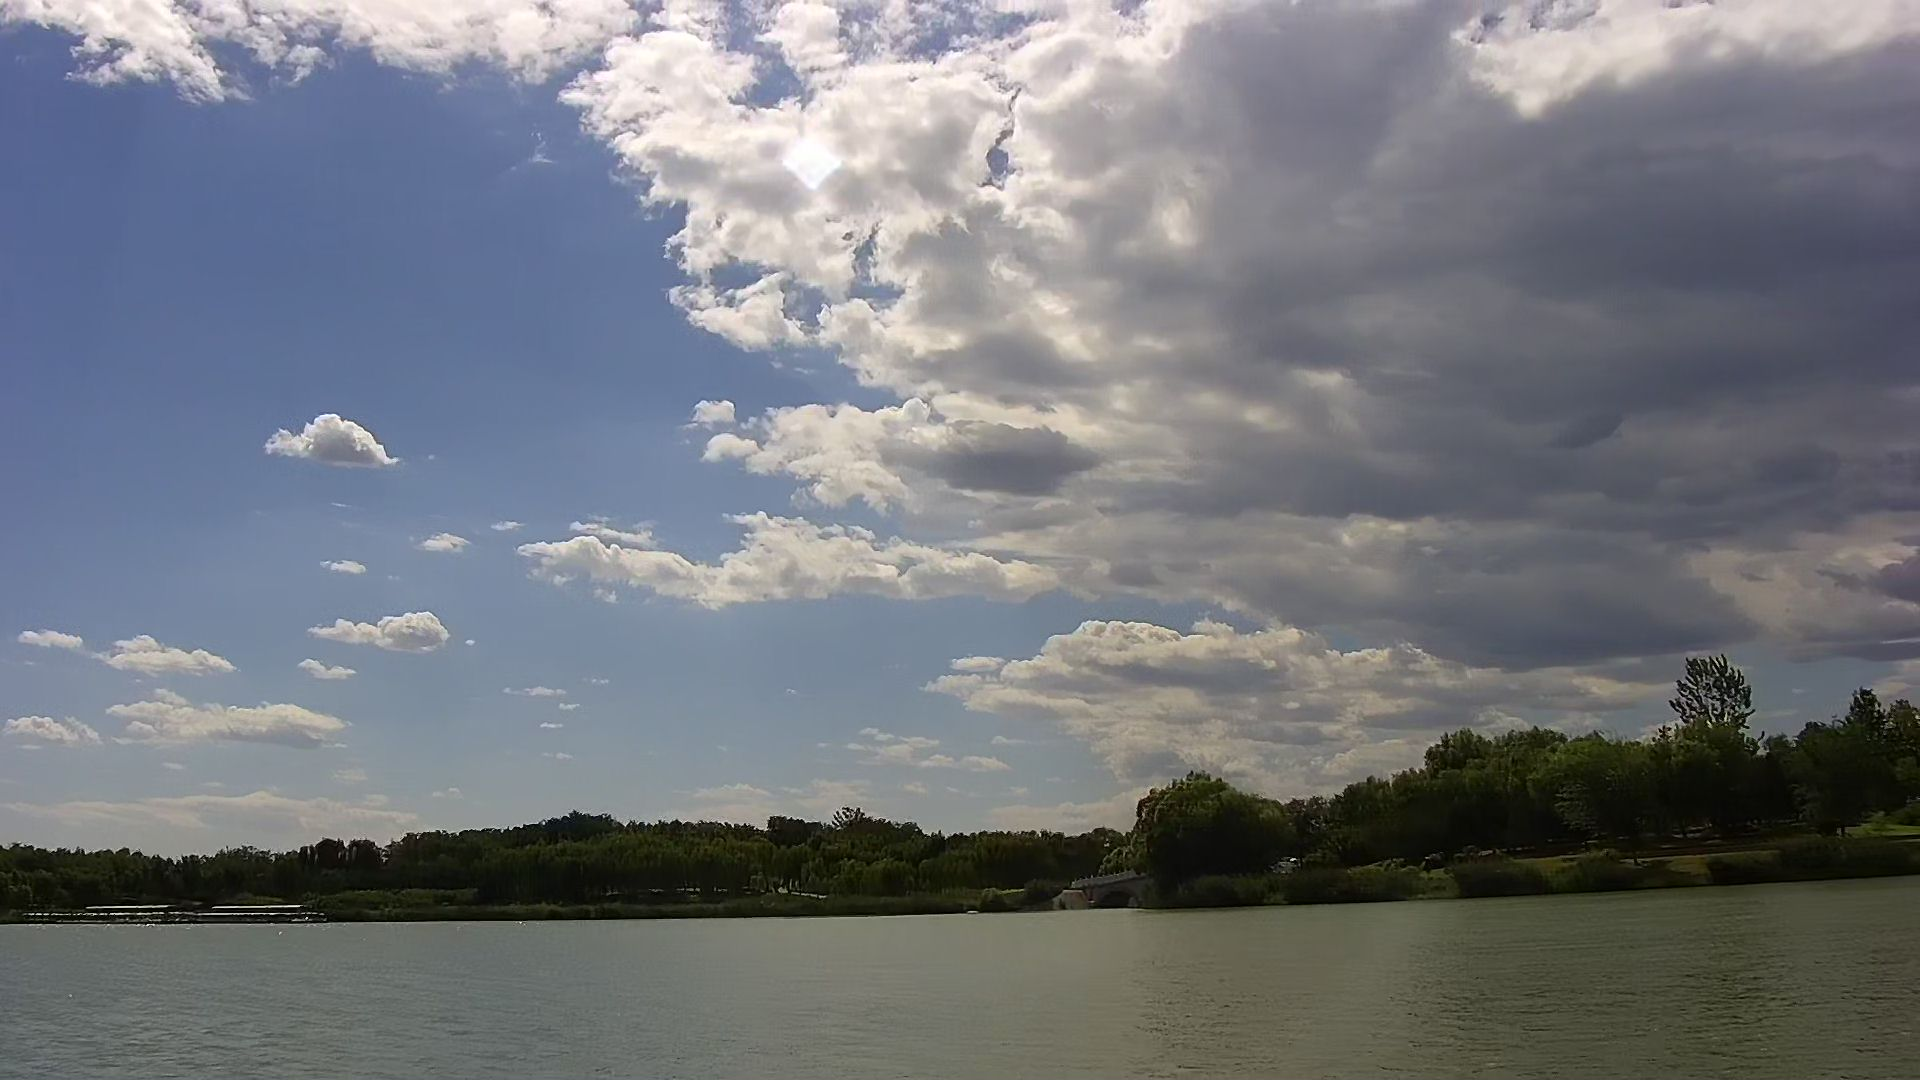harbor: (15, 899, 306, 928)
